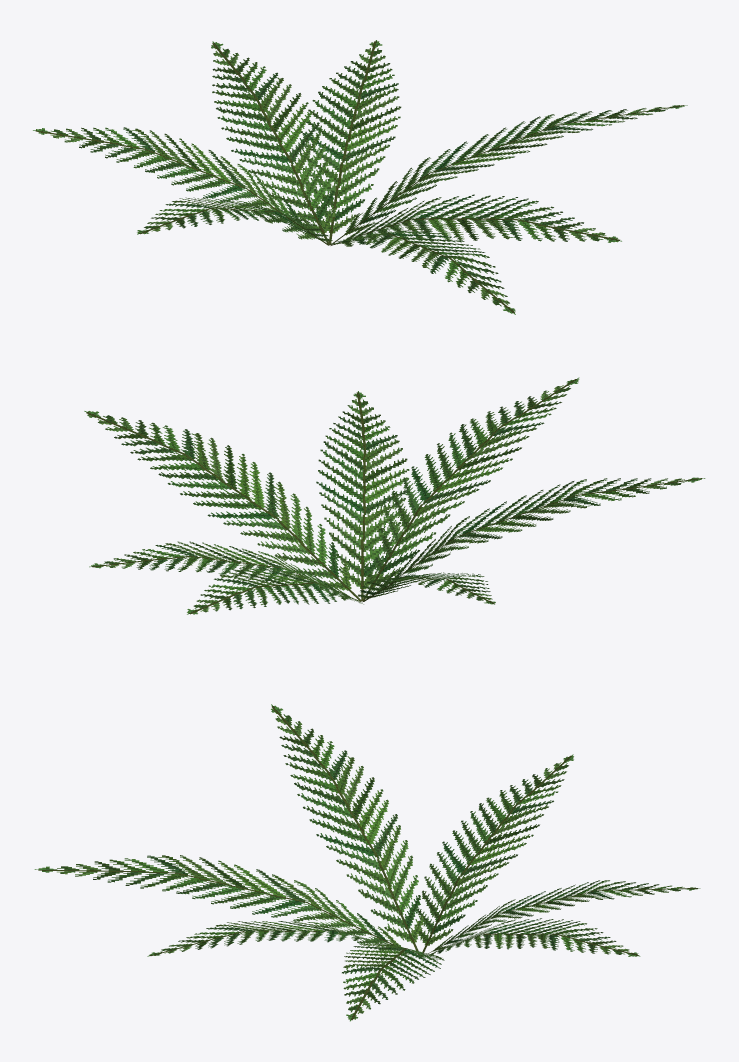
File: FOLIAGE_Fern_01.glb
3 renders of one model, top to bottom at view 1: azimuth 30°, elevation 25°; view 2: azimuth 150°, elevation 25°; view 3: azimuth 270°, elevation 25°, orthographic. The views are drawn at different scales.
Visible parts, largest first — view 1: FOLIAGE_Fern_01; view 2: FOLIAGE_Fern_01; view 3: FOLIAGE_Fern_01.
Part boxes in pixels (<box>): FOLIAGE_Fern_01: <box>33,40,687,314</box>; FOLIAGE_Fern_01: <box>84,377,705,614</box>; FOLIAGE_Fern_01: <box>34,704,700,1021</box>.
Size of the model in its own units: 1.49 by 0.3263 by 1.46.
1 material, 1 textured.
